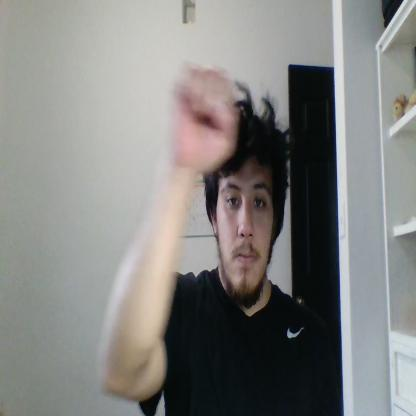S: (167, 65, 237, 174)
